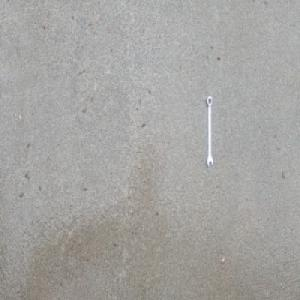Wrench: (206, 94, 214, 169)
